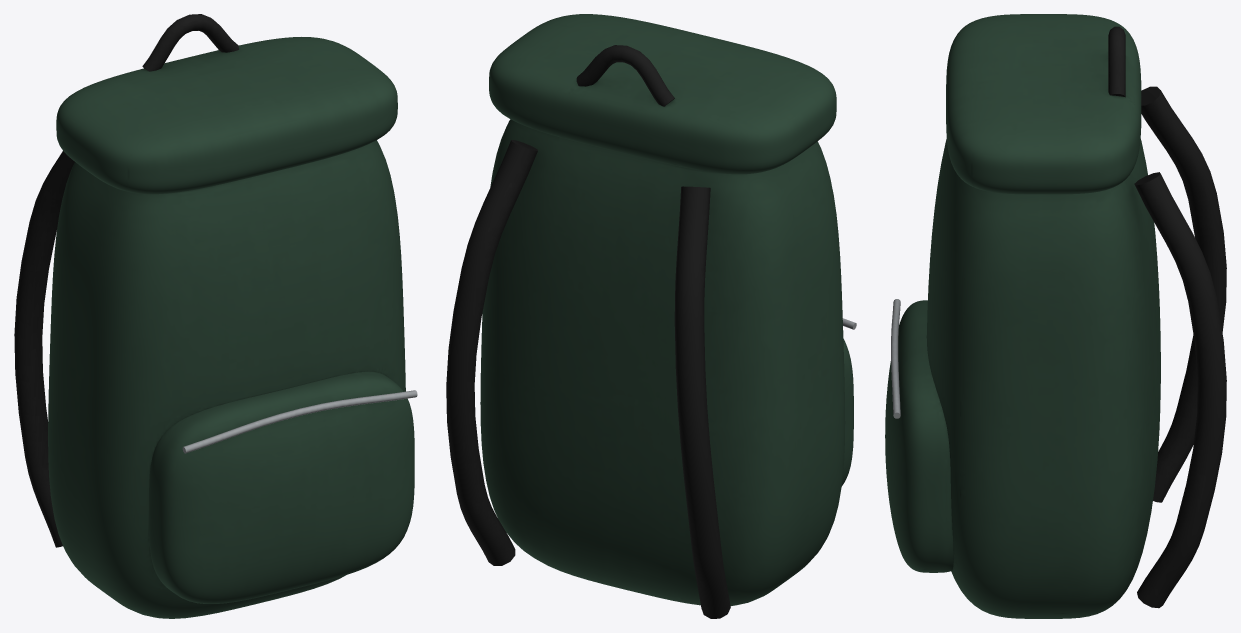
Rendered from forest-green.glb.
3 views of the same model, side by side, from view 1: azimuth 30°, elevation 25°; view 2: azimuth 150°, elevation 25°; view 3: azimuth 270°, elevation 25° (orthographic).
Parts seen in each view (by area): view 1: fabric_primary, webbing, zip_metal; view 2: fabric_primary, webbing; view 3: fabric_primary, webbing, zip_metal.
Part boxes in pixels (box(x1,y1,x2,y2)): fabric_primary: box(48, 37, 414, 618); webbing: box(14, 14, 238, 547); zip_metal: box(182, 390, 417, 453); fabric_primary: box(480, 14, 853, 605); webbing: box(446, 45, 730, 618); fabric_primary: box(885, 14, 1160, 618); webbing: box(1108, 26, 1226, 608); zip_metal: box(891, 299, 900, 418).
Bounding box in the file's own units: 0.2908 × 0.4966 × 0.2796.
3 materials, 3 textured.
